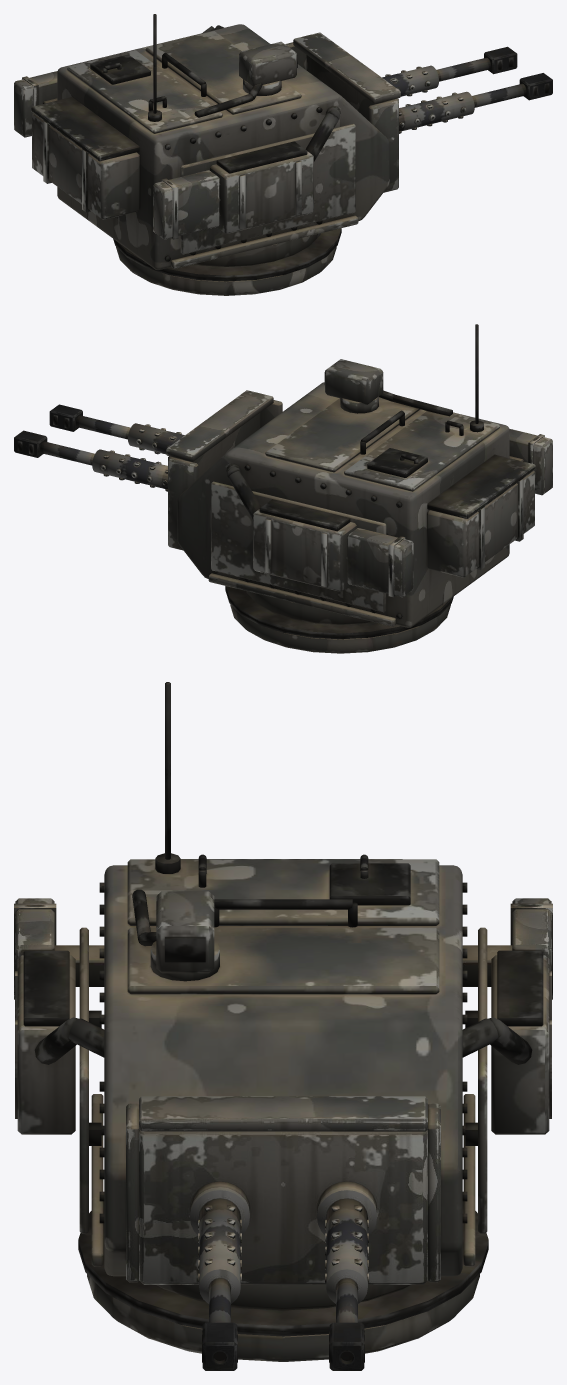
The model's file is turret_grach_t3_ash.glb.
The picture shows the model from 3 angles, top to bottom: view 1: azimuth 30°, elevation 25°; view 2: azimuth 150°, elevation 25°; view 3: azimuth 270°, elevation 25°; orthographic projection. The views are drawn at different scales.
Parts seen in each view (by area): view 1: turret_light_t3, guns, pods; view 2: turret_light_t3, guns, pods; view 3: turret_light_t3, guns, pods.
Part boxes in pixels (x1,y1,x2,y2): turret_light_t3: (31,14,389,295); guns: (285,32,552,192); pods: (14,71,220,239); turret_light_t3: (177,324,535,653); guns: (14,390,282,550); pods: (346,428,552,597); turret_light_t3: (15,682,551,1361); guns: (126,1096,440,1370); pods: (14,898,552,999).
Bounding box in the file's own units: 1.86 × 1.09 × 1.05.
3 materials, 3 textured.
